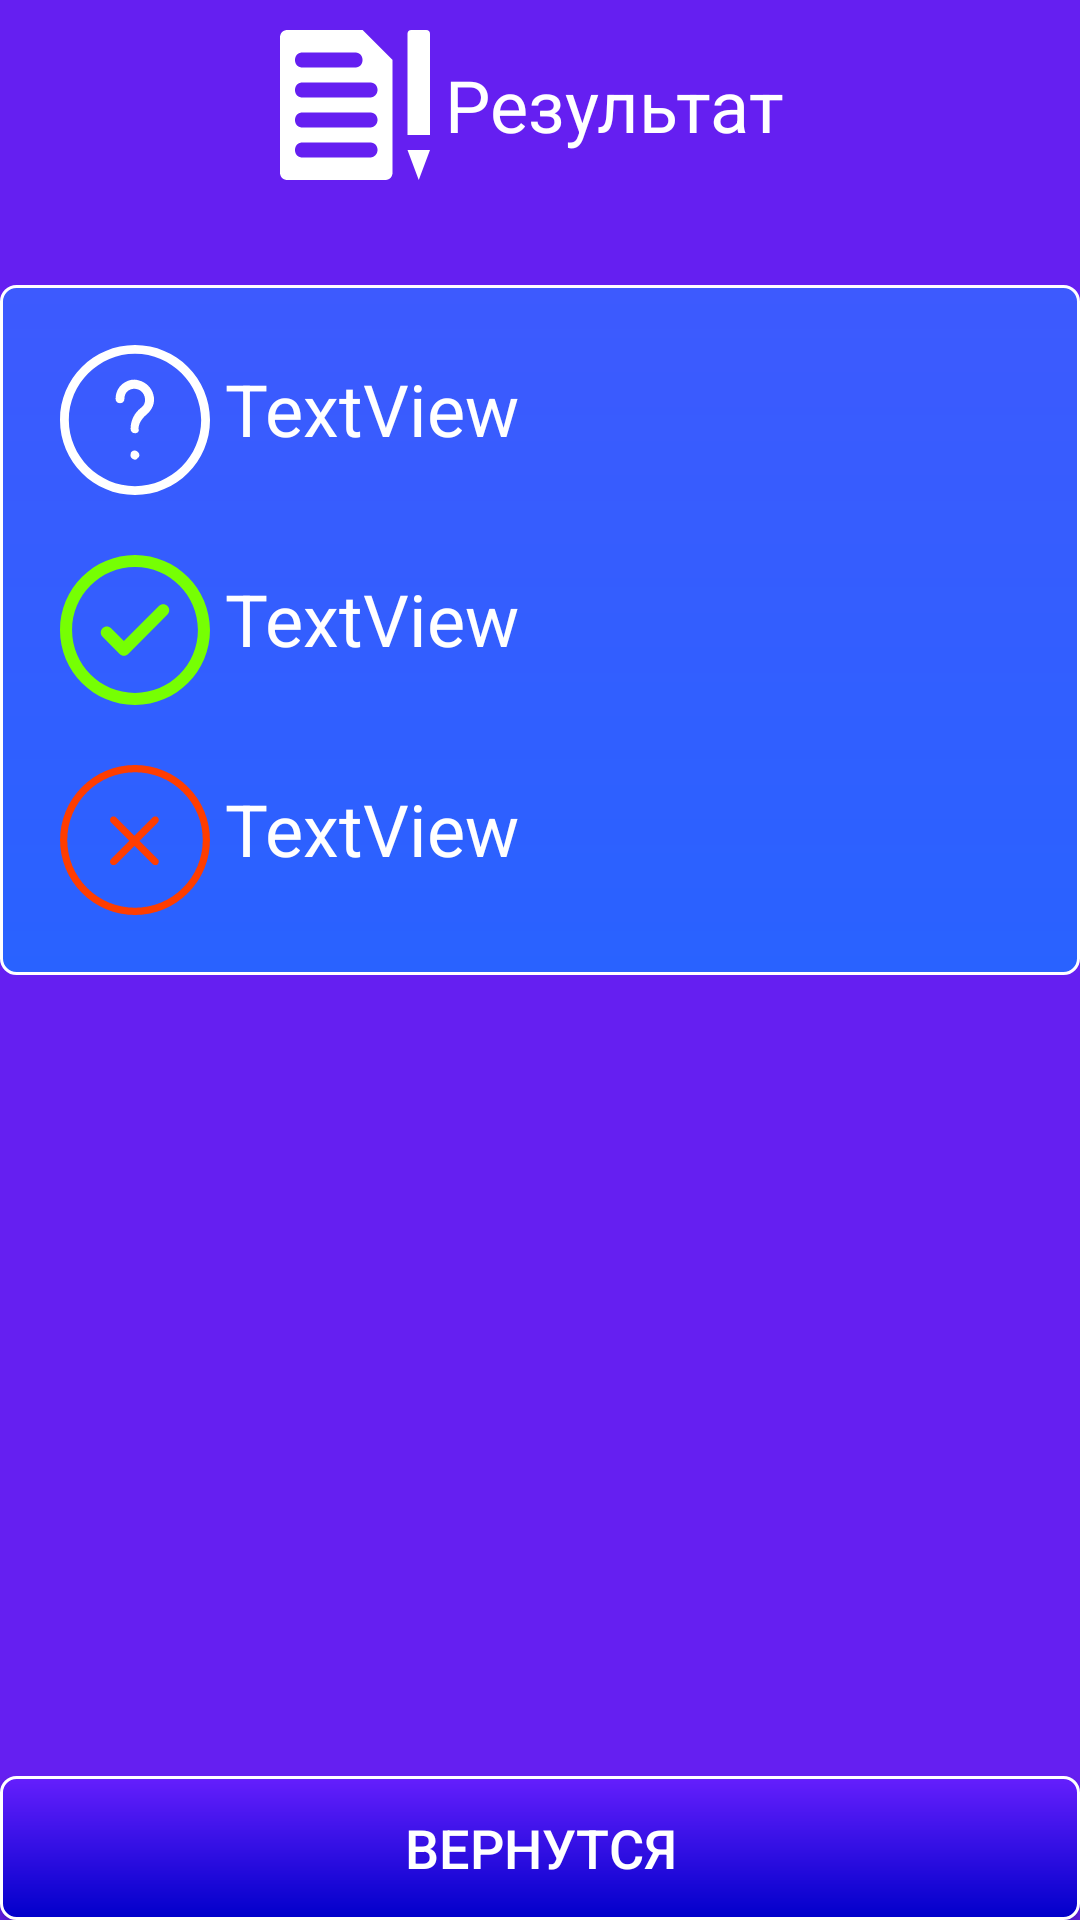

Icon bounding boxes for this 1080px×1920px phone screenshot, format box(x1, y1, x2, y2):
cancel symbol inside circle: box(60, 765, 210, 915)
check mark: box(60, 555, 210, 705)
exam: box(280, 30, 430, 180)
question: box(60, 345, 210, 495)
